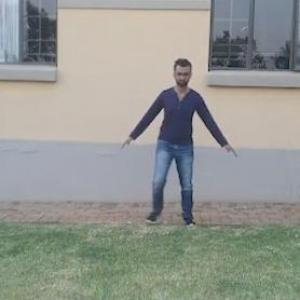land: (114, 57, 246, 231)
